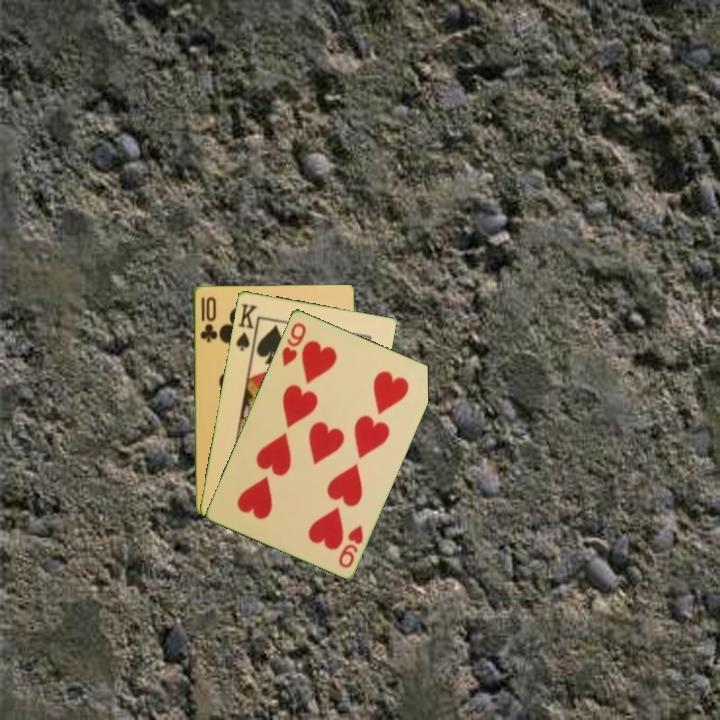10c: (197, 293, 219, 345)
9h: (278, 319, 309, 369), (335, 521, 366, 571)
Ks: (232, 300, 260, 355)
